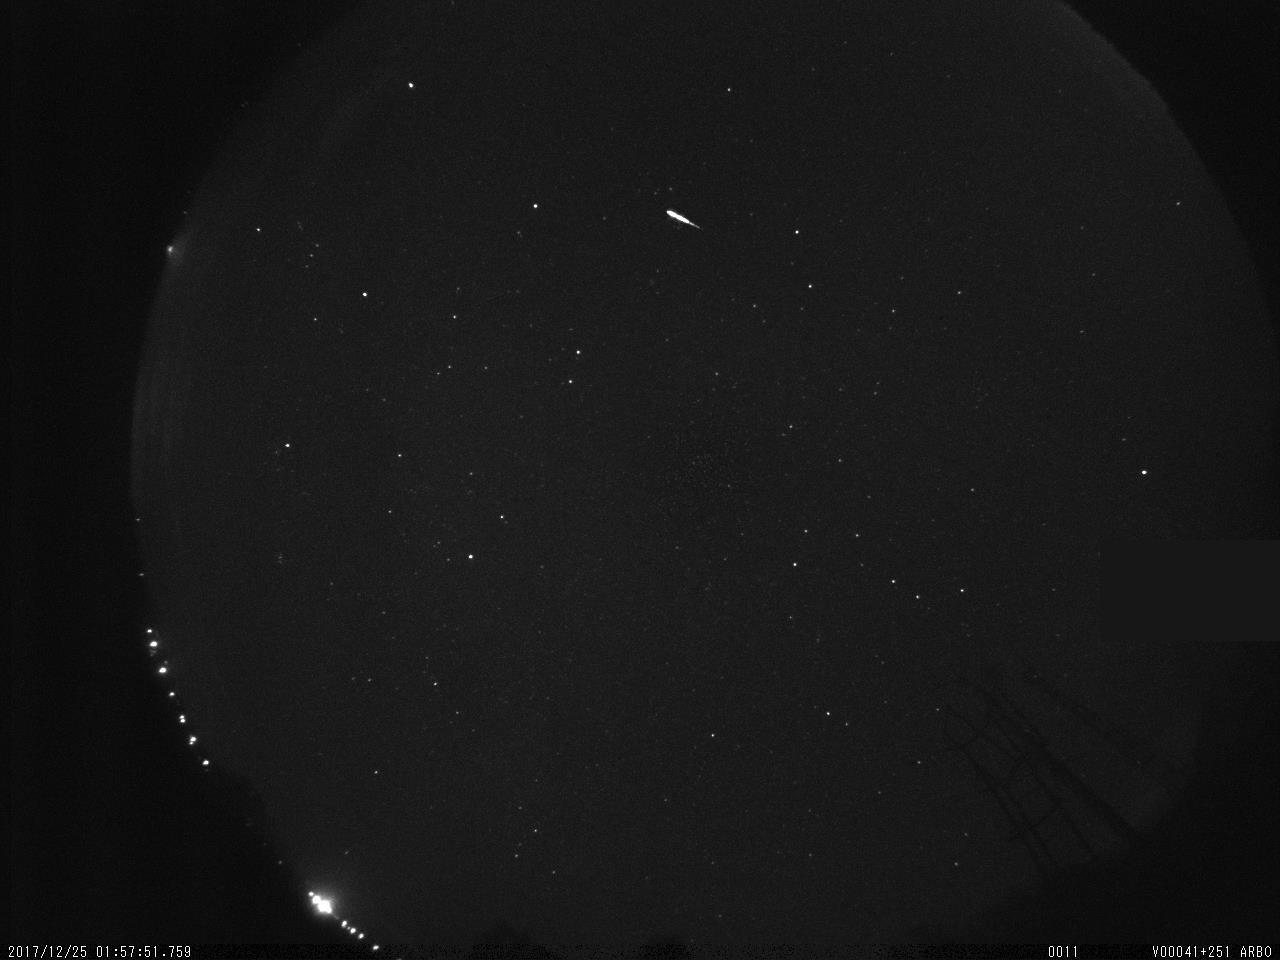meteor: (660, 204, 718, 236)
